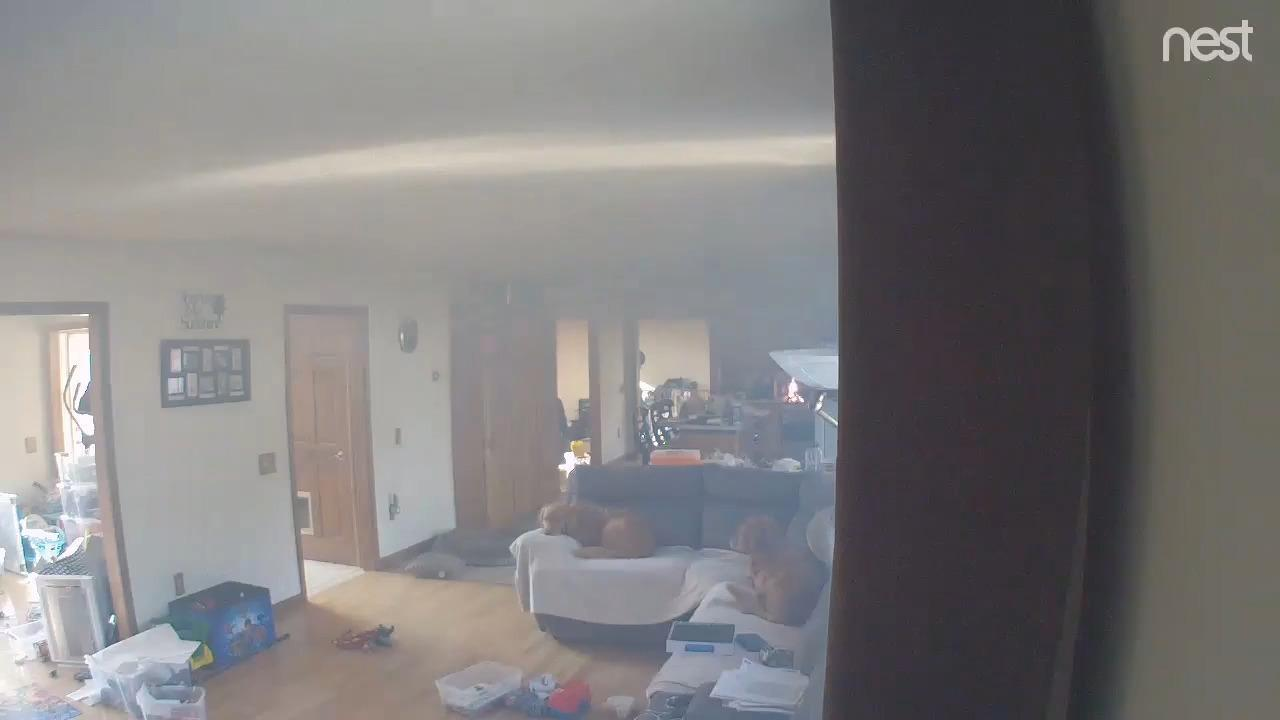fire: (787, 375, 804, 403)
